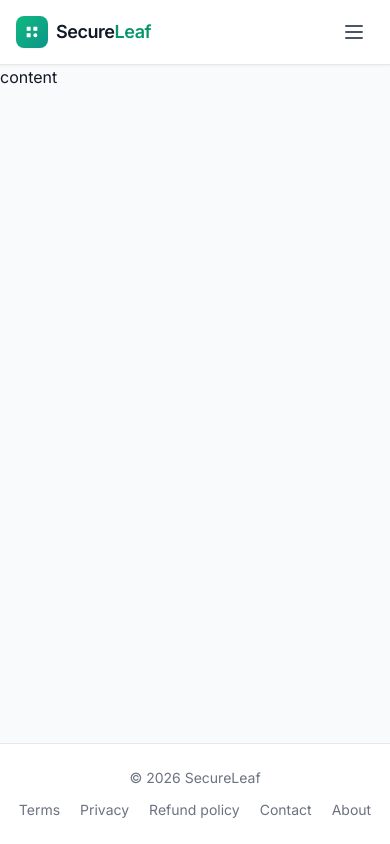
Test case: AppLayout mobile menu › is closed by default and opens from the menu button
The image size is (390, 844).
Click the button named "Open menu": (354, 32) [334, 12, 374, 52]
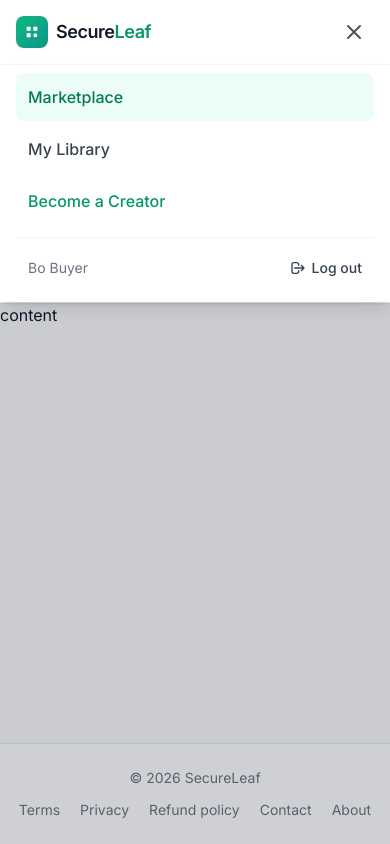
Now the button named "Close menu" is expanded, box [334, 12, 374, 52]
